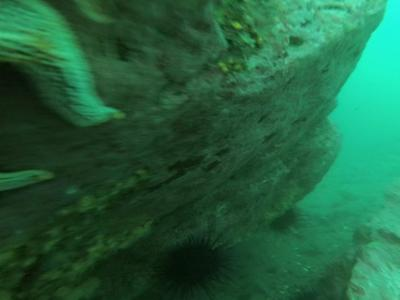urchin: (155, 236, 225, 285), (272, 205, 296, 230)
